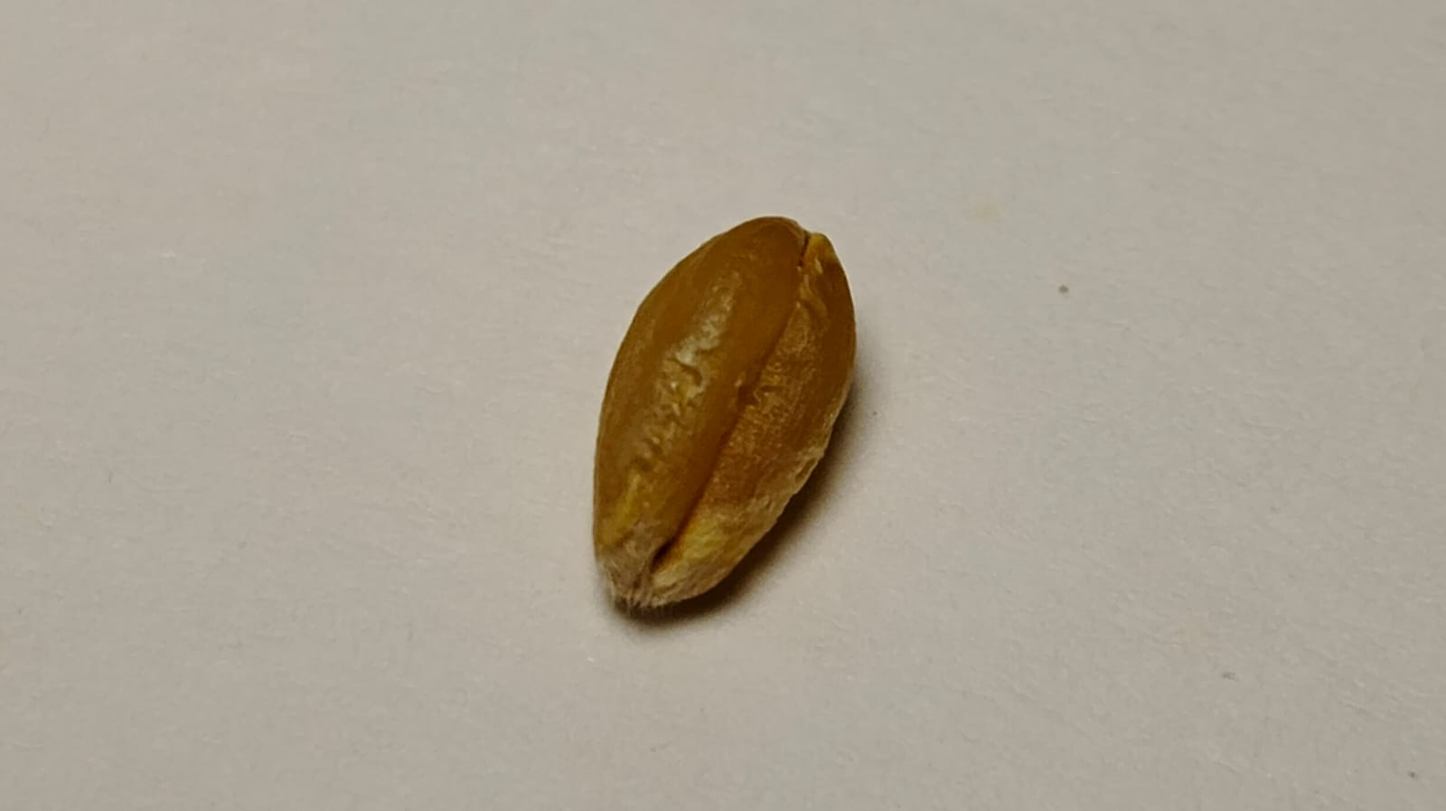healthy: (594, 217, 855, 607)
